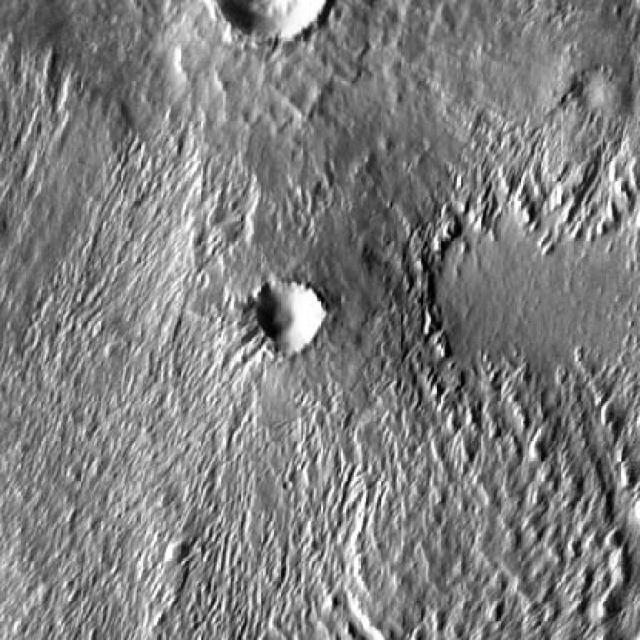crater: (258, 274, 328, 344), (573, 65, 609, 100)
